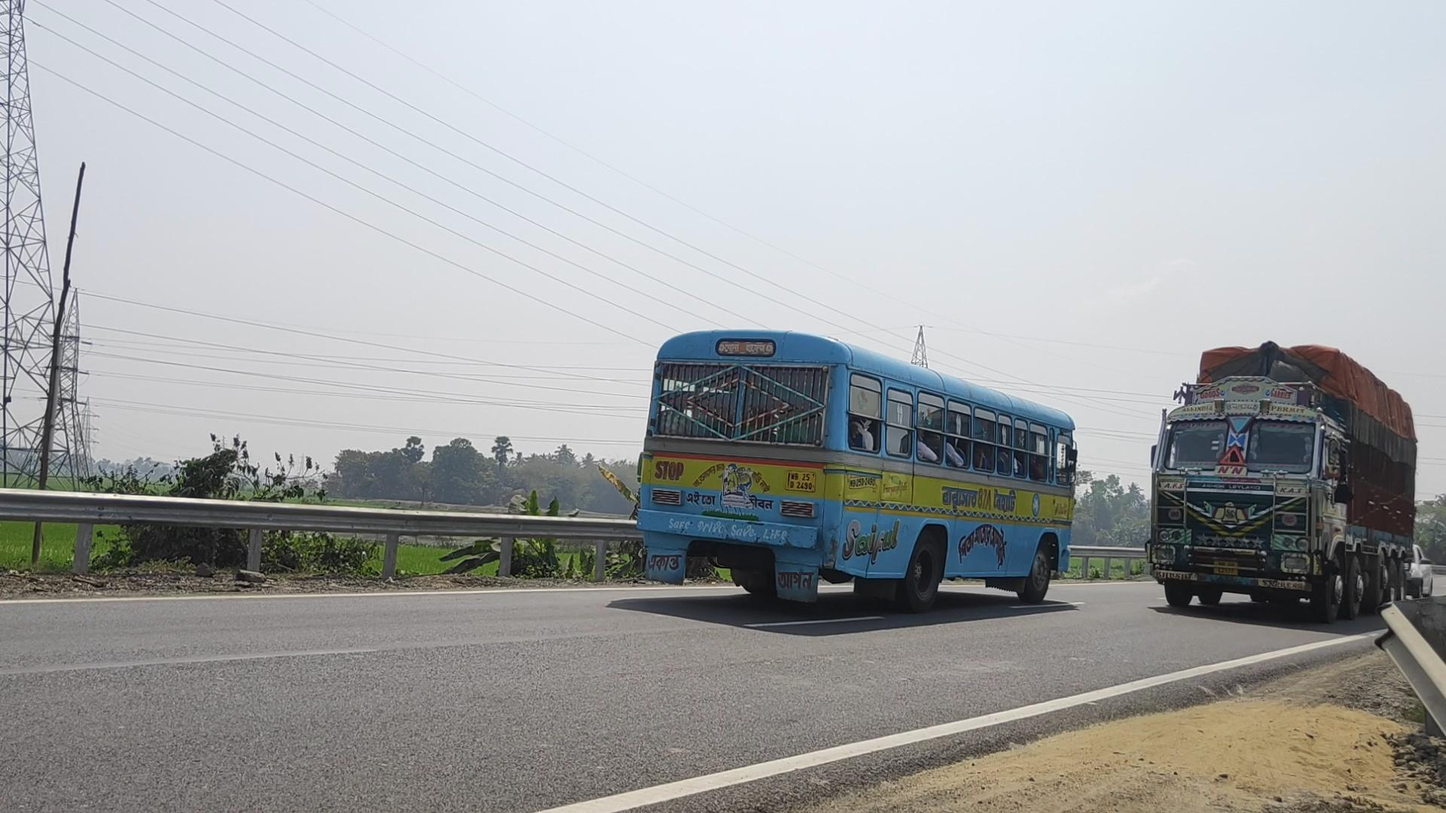Bus: (637, 328, 1077, 614)
truck: (1151, 340, 1418, 623)
